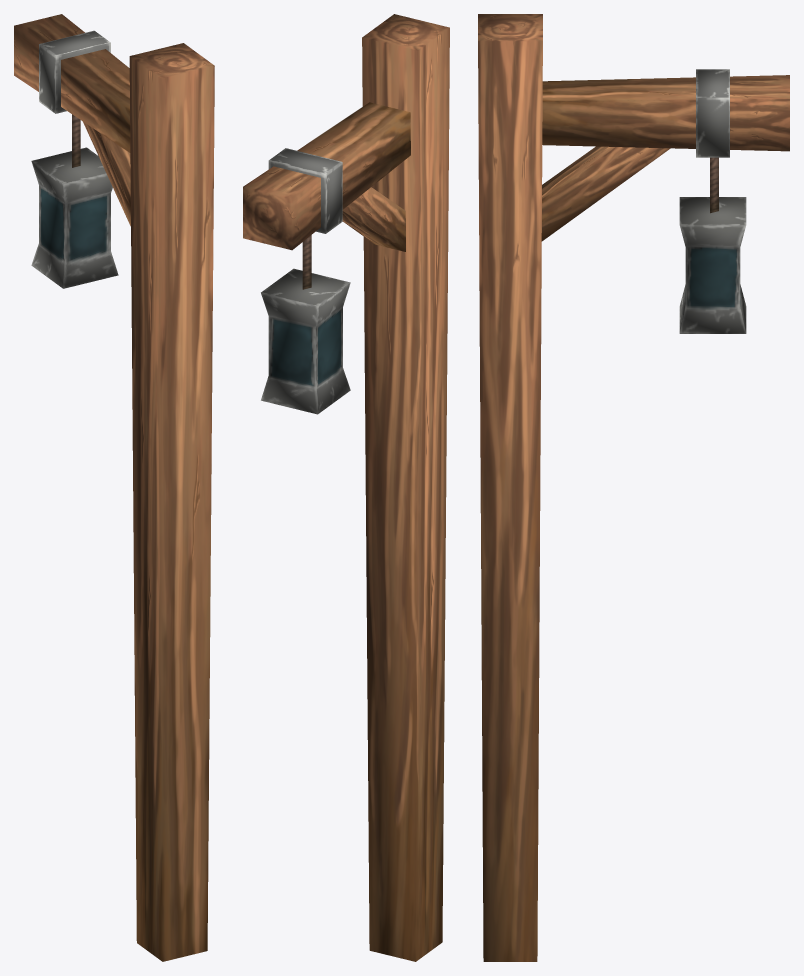
Rendered from Streetlight.fbx.
3 views of the same model, side by side, from view 1: azimuth 30°, elevation 25°; view 2: azimuth 150°, elevation 25°; view 3: azimuth 270°, elevation 25° (orthographic). The views are drawn at different scales.
Visible parts, largest first — view 1: Streetlight; view 2: Streetlight; view 3: Streetlight.
Part boxes in pixels (bbox=[...]): Streetlight: bbox=[14, 14, 214, 961]; Streetlight: bbox=[243, 14, 449, 961]; Streetlight: bbox=[478, 14, 789, 961].
Bounding box in the file's own units: 44.44 × 680 × 208.
